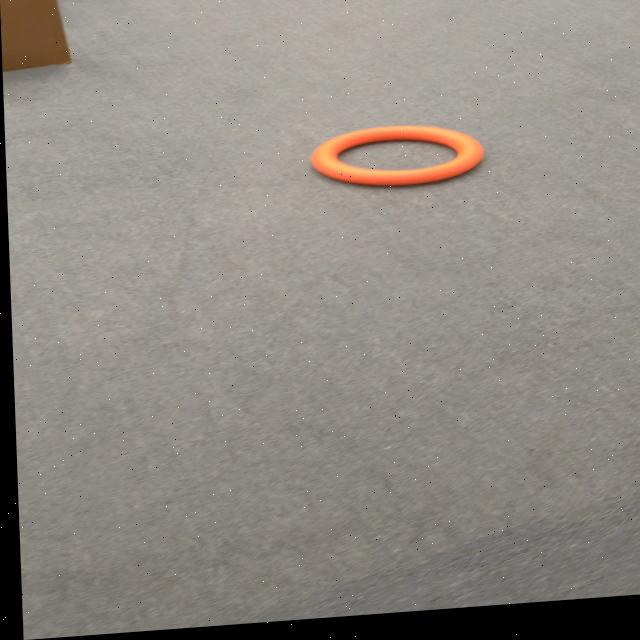note: (303, 127, 484, 201)
